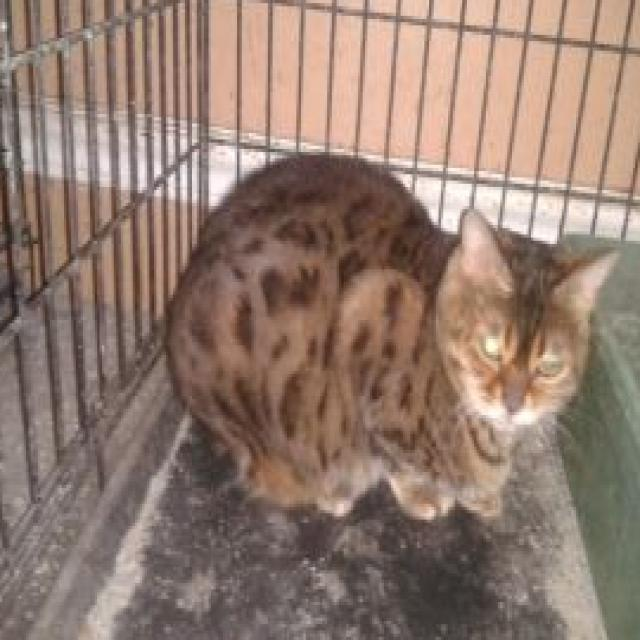Bengal: (170, 135, 637, 577)
